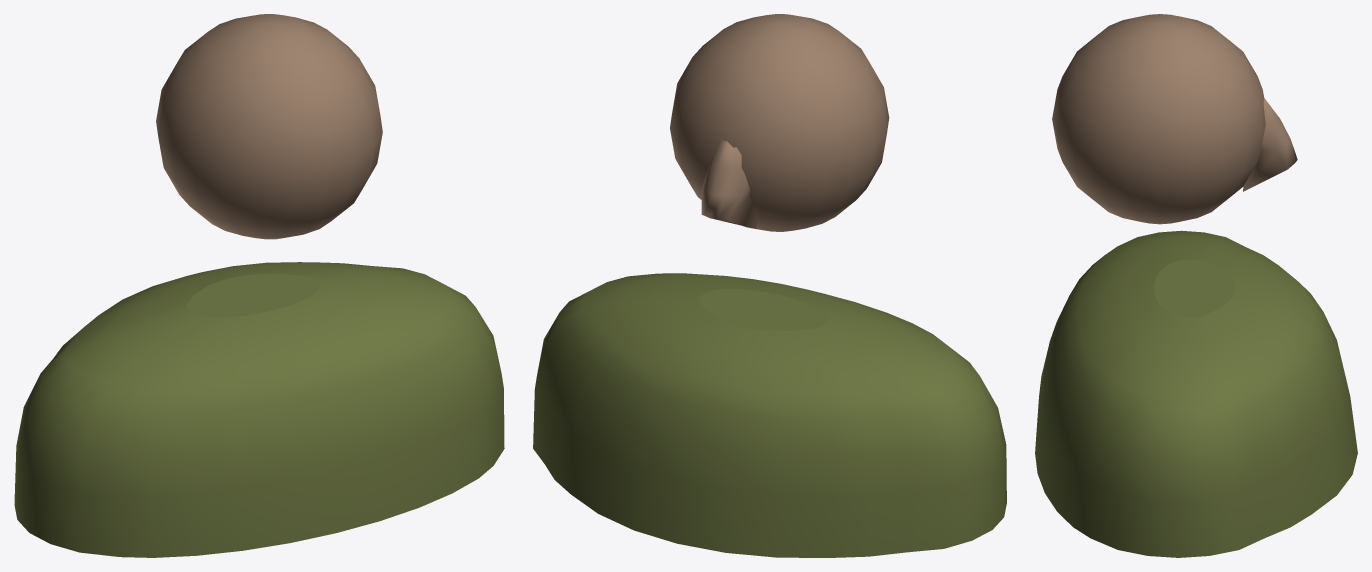
File: NPC2.fbx
3 views of the same model, side by side, from view 1: azimuth 30°, elevation 25°; view 2: azimuth 150°, elevation 25°; view 3: azimuth 270°, elevation 25° (orthographic). The views are drawn at different scales.
Parts seen in each view (by area): view 1: pSphere17; view 2: pSphere17; view 3: pSphere17.
Part boxes in pixels (bbox=[...]): pSphere17: bbox=[14, 14, 504, 557]; pSphere17: bbox=[533, 14, 1006, 557]; pSphere17: bbox=[1035, 14, 1357, 557].
Size of the model in its own units: 1.65 by 1.57 by 1.07.
